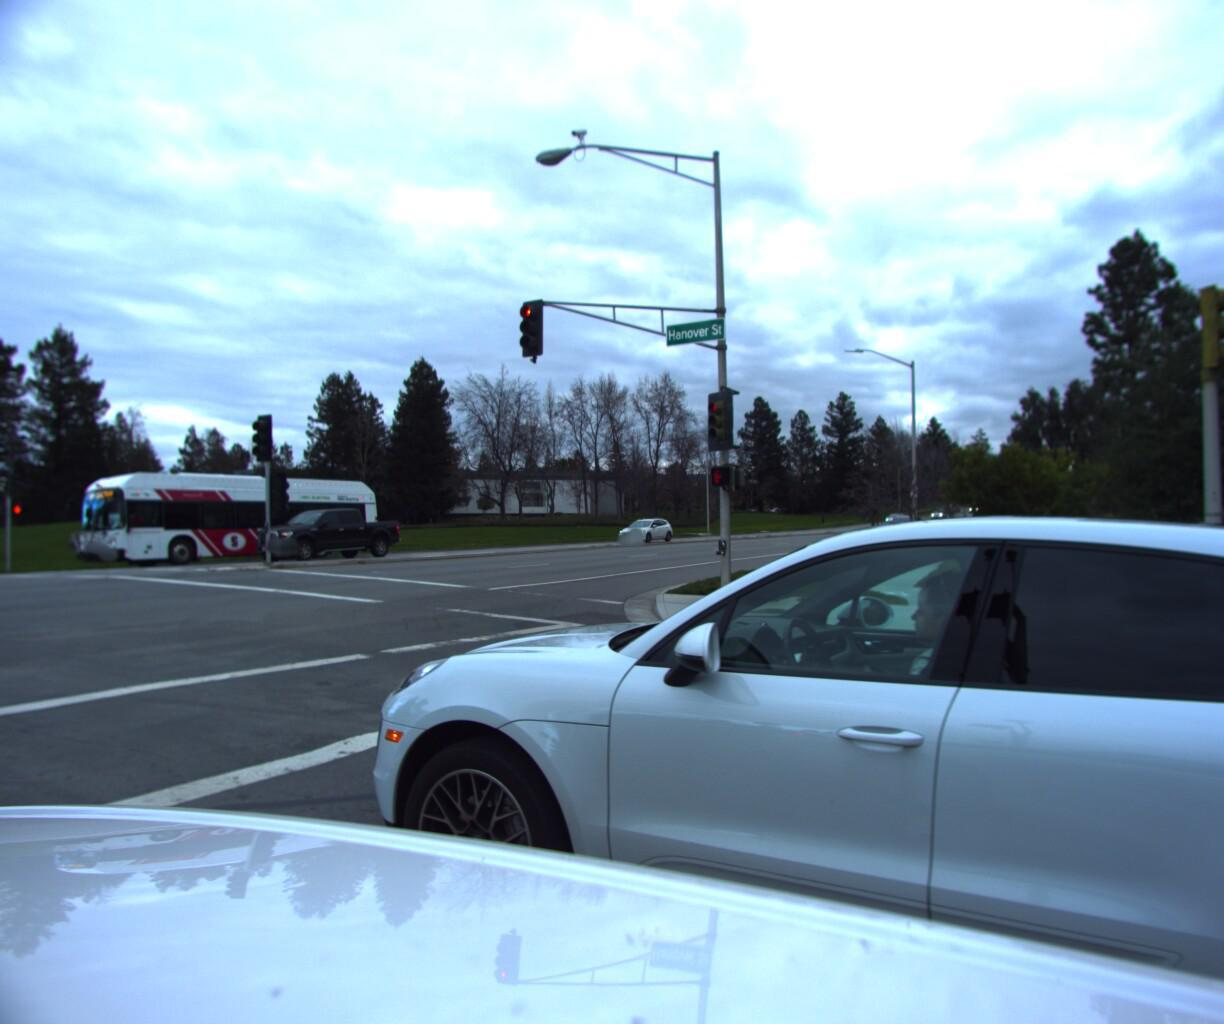bus: (46, 466, 386, 571)
car: (307, 407, 1224, 1024), (252, 510, 410, 563), (616, 516, 680, 545), (884, 515, 926, 539)
